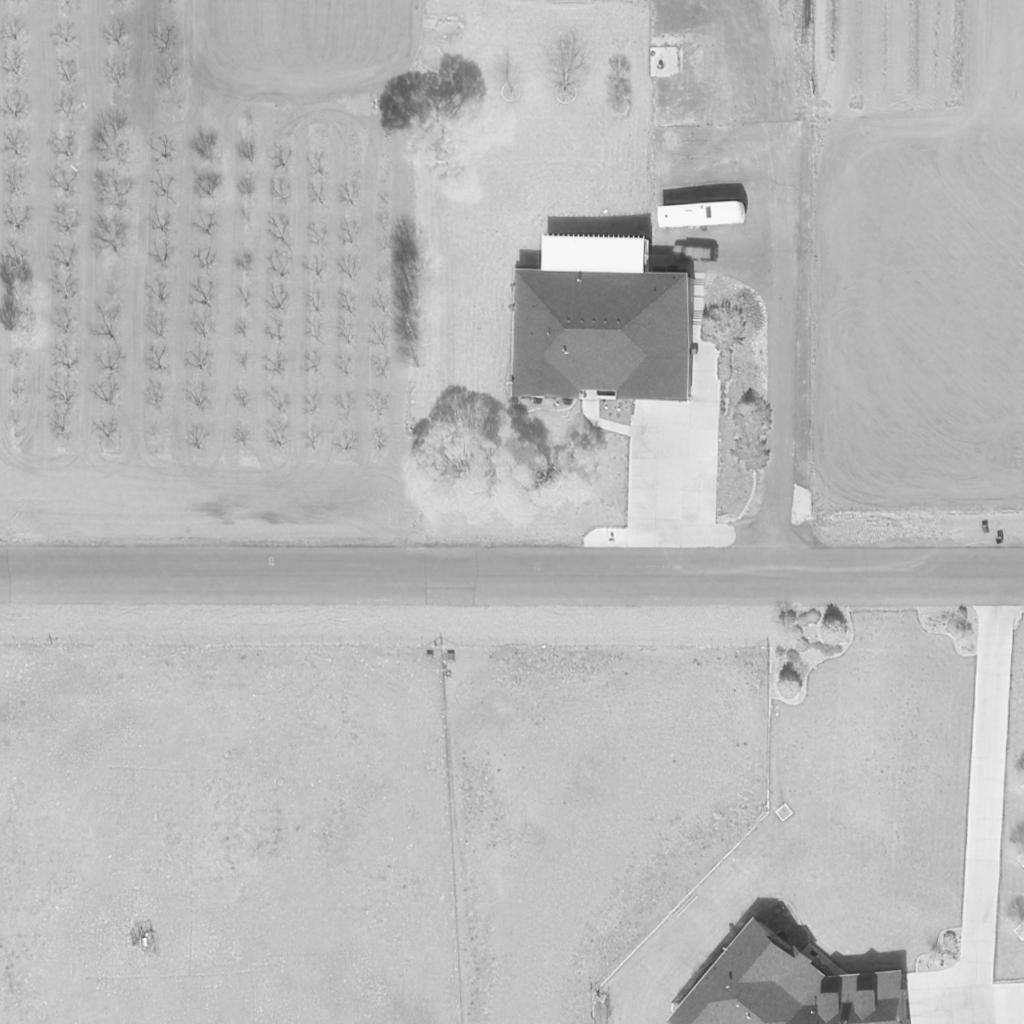vehicle: (657, 200, 745, 230), (672, 243, 714, 265)
